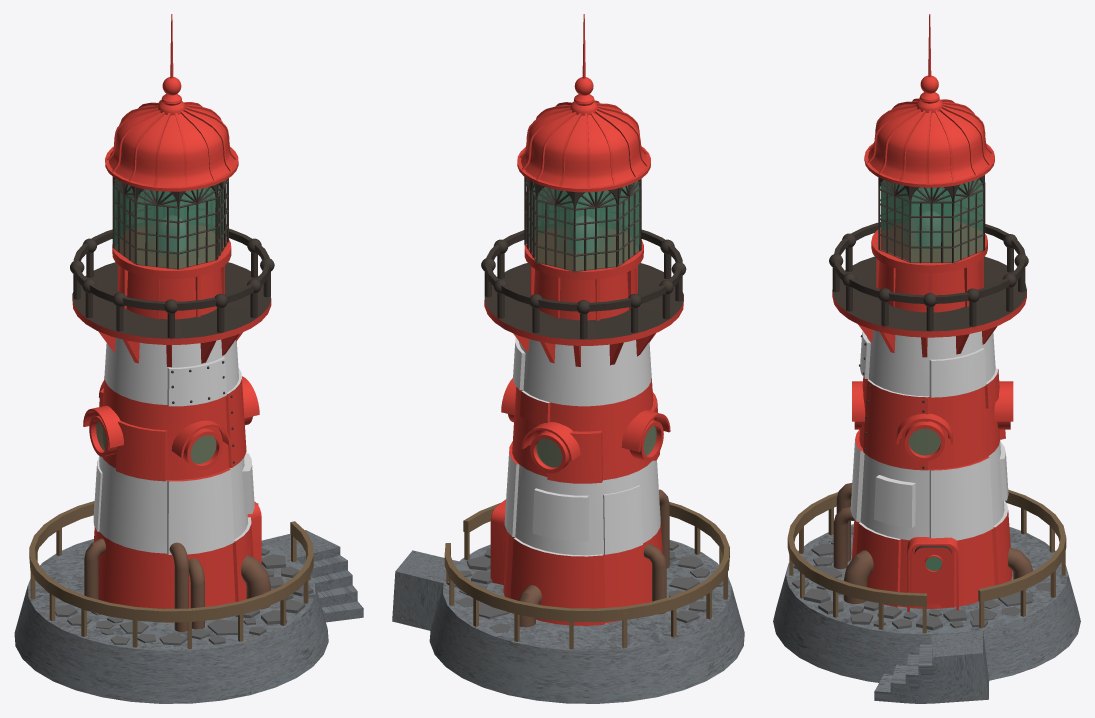
File: lighthouse.glb
3 renders of one model, left to right at view 1: azimuth 30°, elevation 25°; view 2: azimuth 150°, elevation 25°; view 3: azimuth 270°, elevation 25°, orthographic. The views are drawn at different scales.
Visible parts, largest first — view 1: Object_7, Object_8, Object_11, Object_5, Object_12, Object_3, Object_6, Object_10, Object_9; view 2: Object_7, Object_8, Object_11, Object_5, Object_12, Object_3, Object_6, Object_10, Object_9; view 3: Object_7, Object_8, Object_11, Object_5, Object_12, Object_3, Object_10, Object_6, Object_9.
Boxes of the visible parts, x1,y1,x2,y2 form: Object_7: [72, 14, 271, 622]; Object_8: [14, 530, 363, 703]; Object_11: [93, 337, 254, 554]; Object_5: [70, 228, 274, 463]; Object_12: [29, 501, 313, 648]; Object_3: [96, 179, 226, 463]; Object_6: [112, 177, 228, 269]; Object_10: [55, 548, 313, 645]; Object_9: [84, 538, 270, 631]; Object_7: [484, 14, 683, 625]; Object_8: [392, 540, 744, 703]; Object_11: [504, 337, 660, 556]; Object_5: [481, 229, 686, 339]; Object_12: [444, 501, 729, 649]; Object_3: [529, 181, 656, 467]; Object_6: [524, 177, 641, 272]; Object_10: [447, 541, 728, 632]; Object_9: [518, 489, 669, 627]; Object_7: [832, 14, 1026, 611]; Object_8: [773, 524, 1080, 703]; Object_11: [850, 330, 1008, 540]; Object_5: [829, 222, 1028, 553]; Object_12: [787, 489, 1066, 633]; Object_3: [881, 179, 982, 570]; Object_10: [792, 526, 1057, 630]; Object_6: [878, 175, 985, 263]; Object_9: [833, 483, 1032, 603].
Bounding box in the file's own units: 3.98 × 7.69 × 3.52.
Materials: 10 (1 with a texture image).
